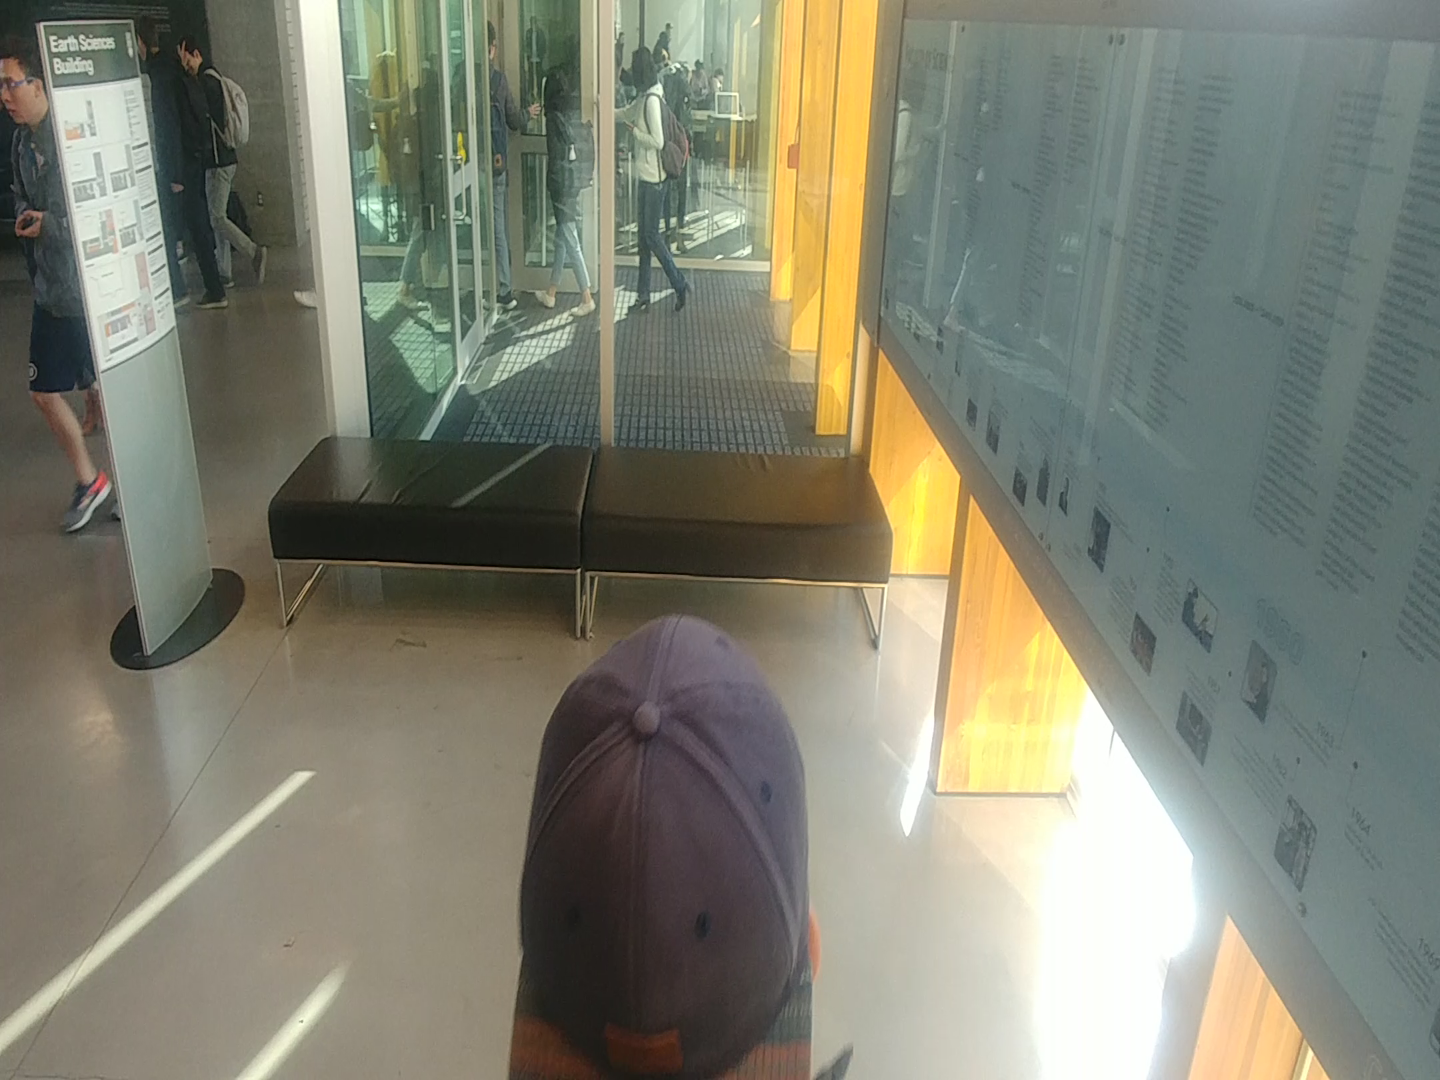face: (0, 44, 54, 134), (617, 39, 673, 98), (532, 54, 586, 116), (130, 10, 170, 69), (172, 30, 216, 78)
human: (0, 36, 111, 569), (129, 7, 233, 318), (173, 26, 275, 298), (617, 44, 702, 325), (526, 57, 601, 326)
